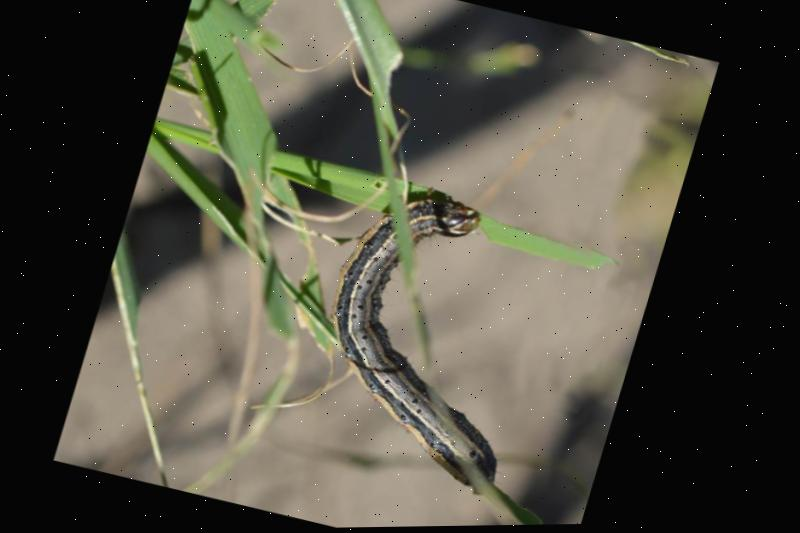fall-armyworm: (337, 199, 502, 497)
